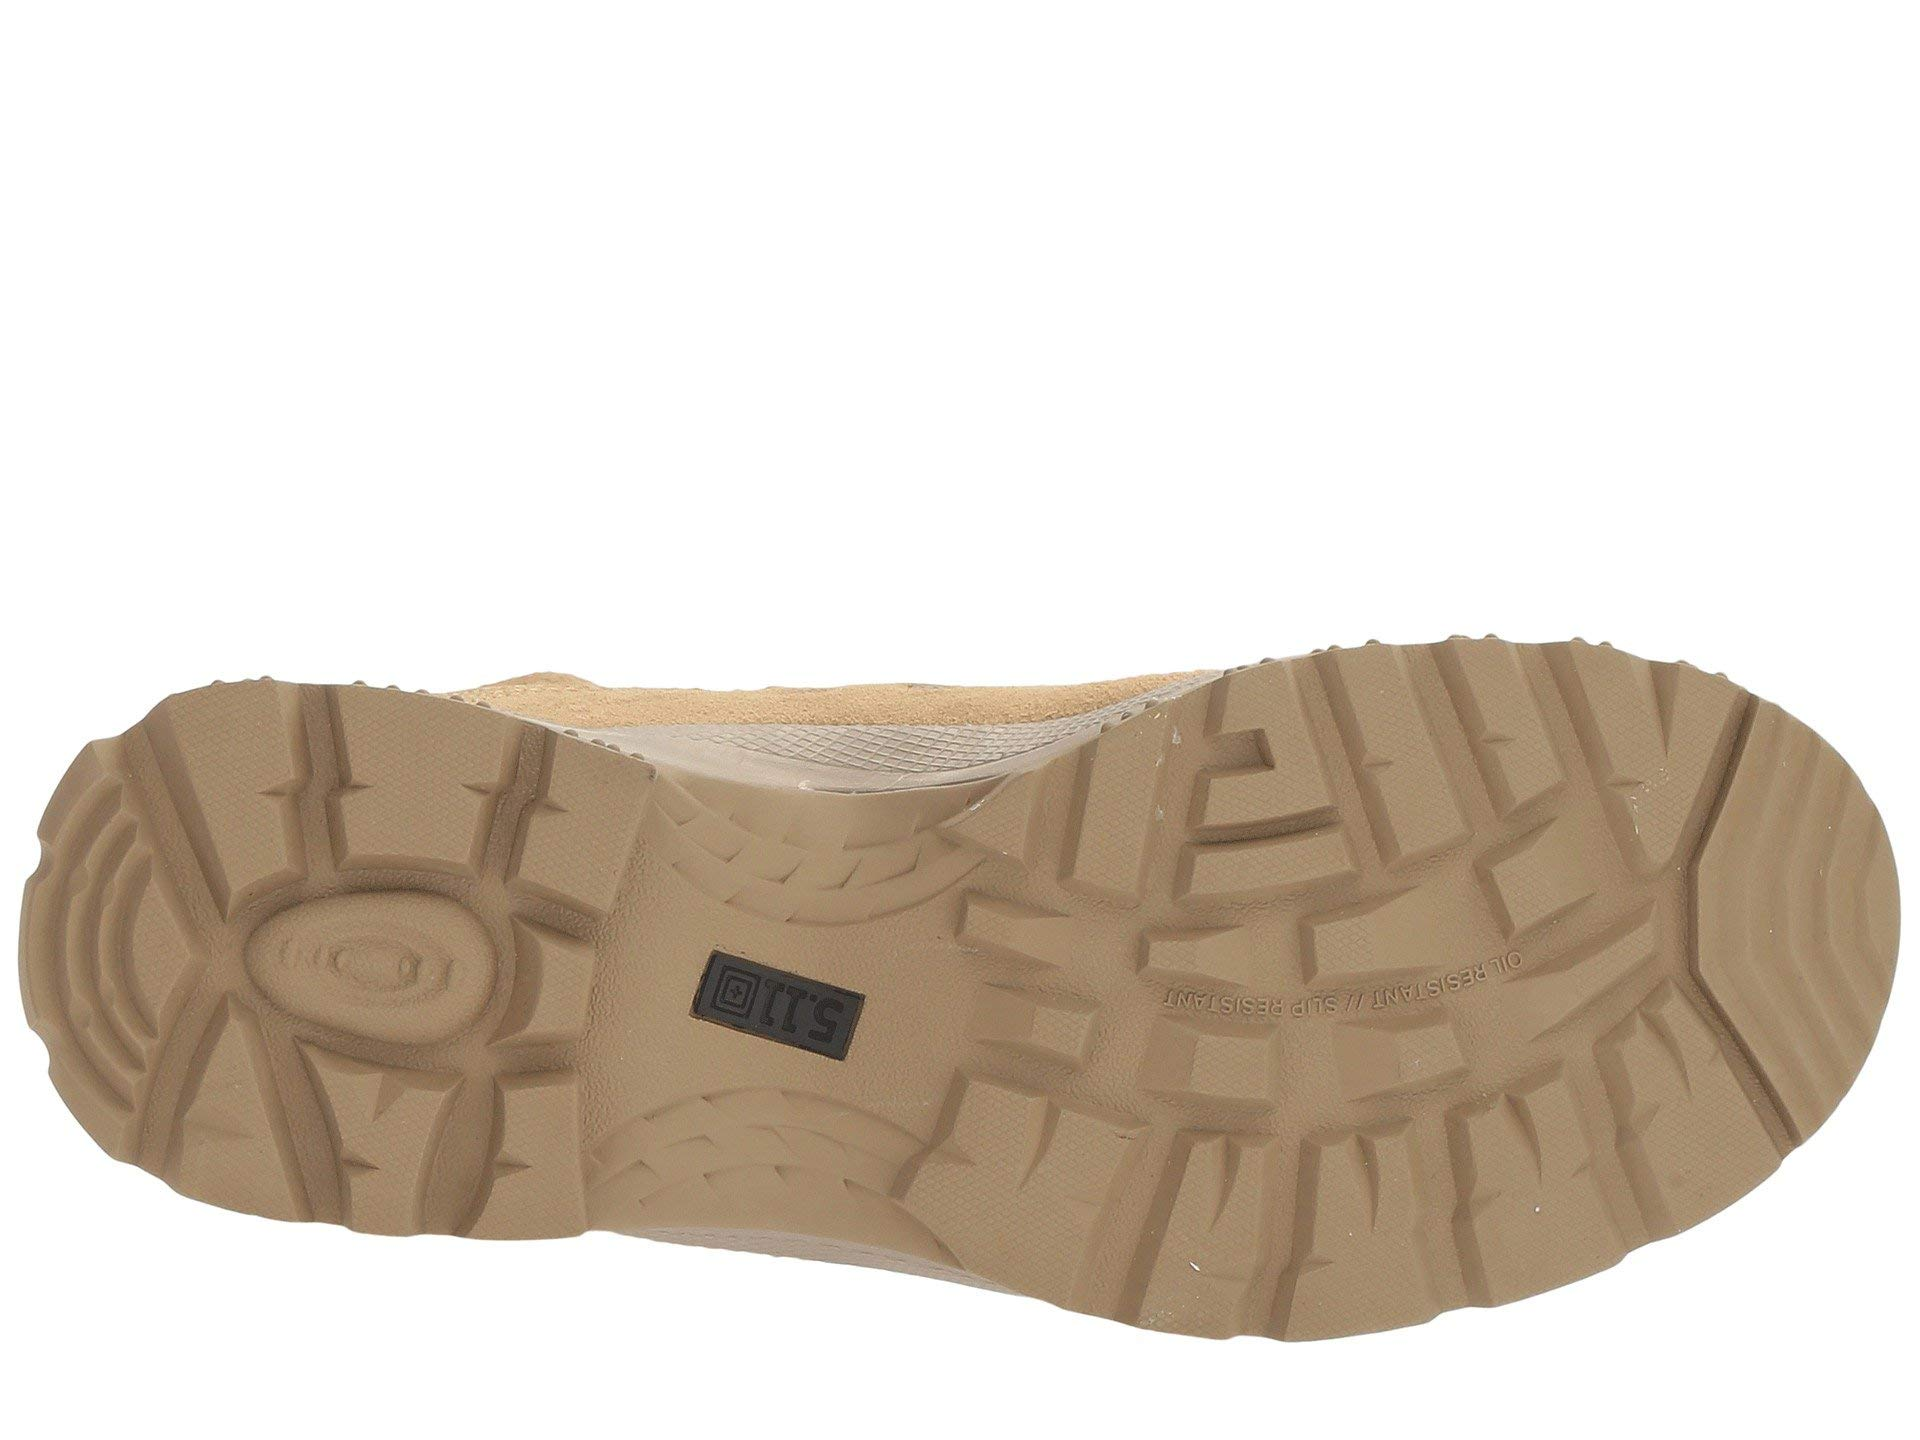chevron: (1562, 616, 1858, 992)
quad: (1140, 812, 1466, 1144), (633, 923, 909, 1113)
text: (1140, 812, 1466, 1144), (633, 923, 909, 1113)
triangle: (97, 961, 367, 1262)
